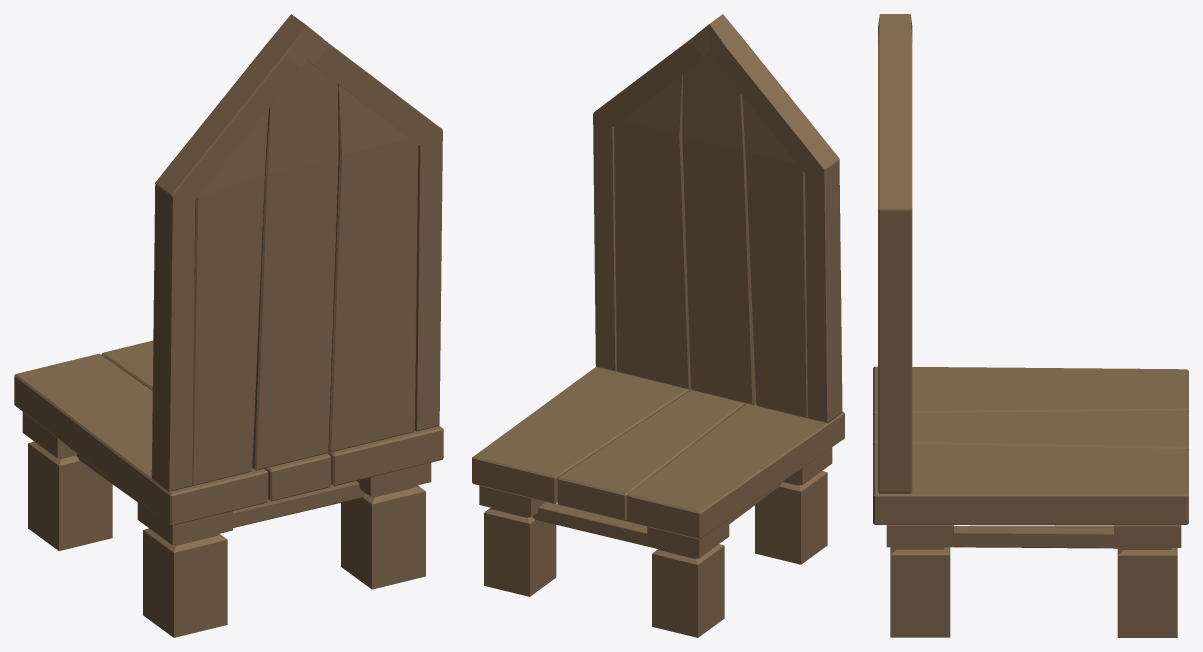
Rendered from Chair4.fbx.
3 views of the same model, side by side, from view 1: azimuth 30°, elevation 25°; view 2: azimuth 150°, elevation 25°; view 3: azimuth 270°, elevation 25° (orthographic). The views are drawn at different scales.
Parts seen in each view (by area): view 1: Chair6; view 2: Chair6; view 3: Chair6.
Boxes of the visible parts, x1,y1,x2,y2 form: Chair6: [14, 14, 443, 637]; Chair6: [472, 14, 844, 637]; Chair6: [873, 14, 1188, 637].
Bounding box in the file's own units: 2.23 × 4.53 × 2.3.
